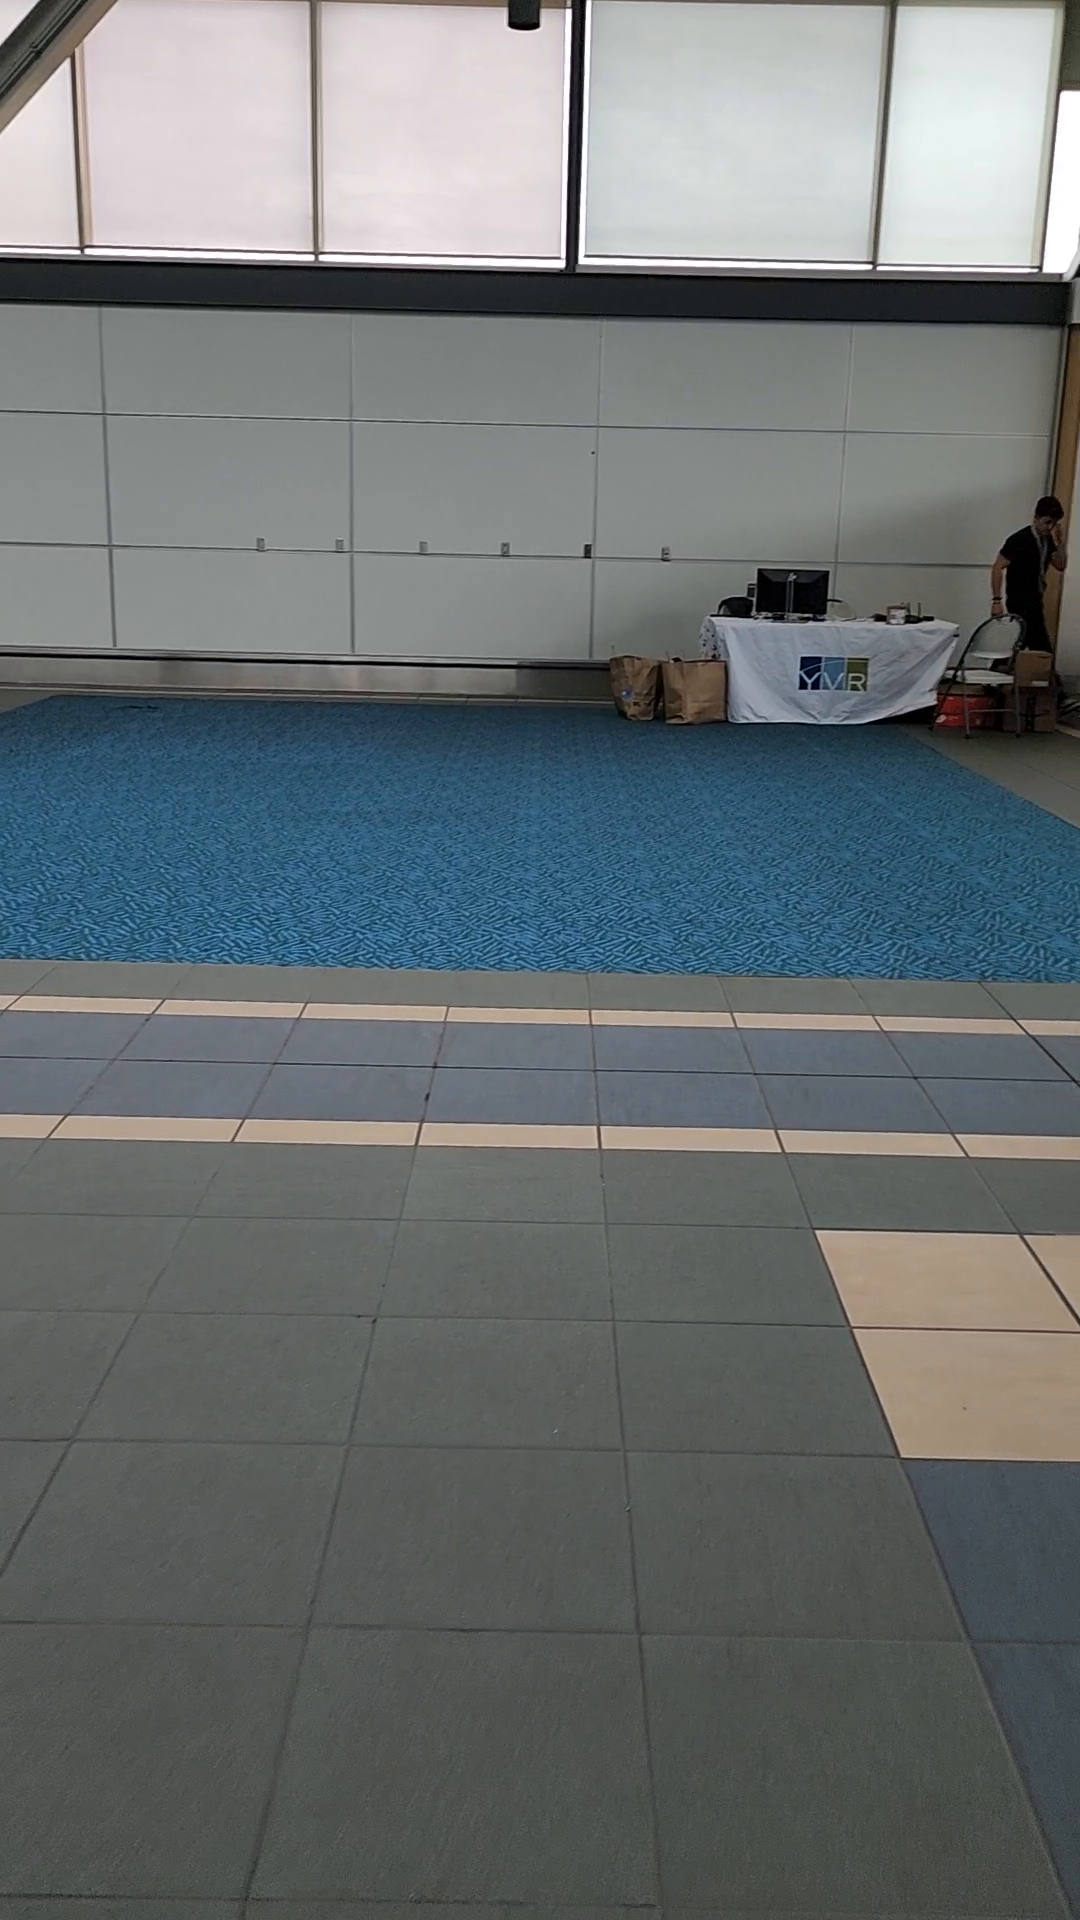Defect: (417, 1048, 452, 1117), (352, 1274, 386, 1331), (104, 695, 164, 715)
Stain: (462, 1174, 545, 1203), (785, 1083, 822, 1106)
